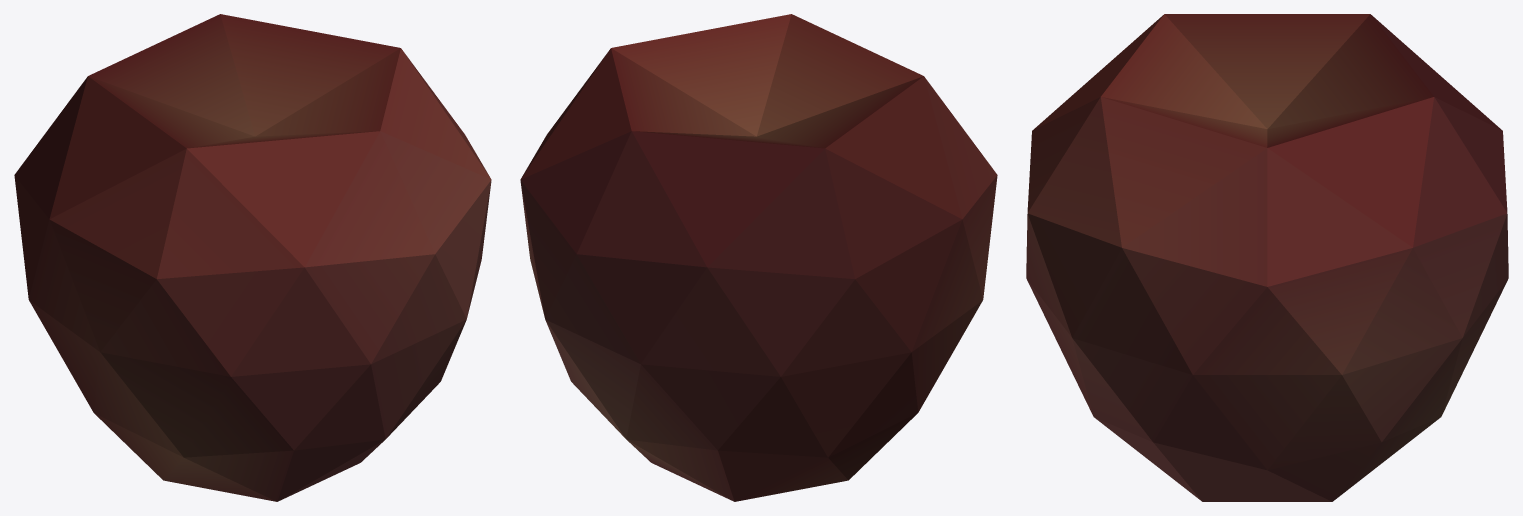
Rendered from Food_Apple.fbx.
3 views of the same model, side by side, from view 1: azimuth 30°, elevation 25°; view 2: azimuth 150°, elevation 25°; view 3: azimuth 270°, elevation 25° (orthographic). The views are drawn at different scales.
Parts seen in each view (by area): view 1: Food_Apple; view 2: Food_Apple; view 3: Food_Apple.
Part boxes in pixels (<box>): Food_Apple: <box>14,14,491,501</box>; Food_Apple: <box>520,14,997,501</box>; Food_Apple: <box>1026,14,1508,501</box>.
Bounding box in the file's own units: 9.17 × 7.9 × 8.85.
